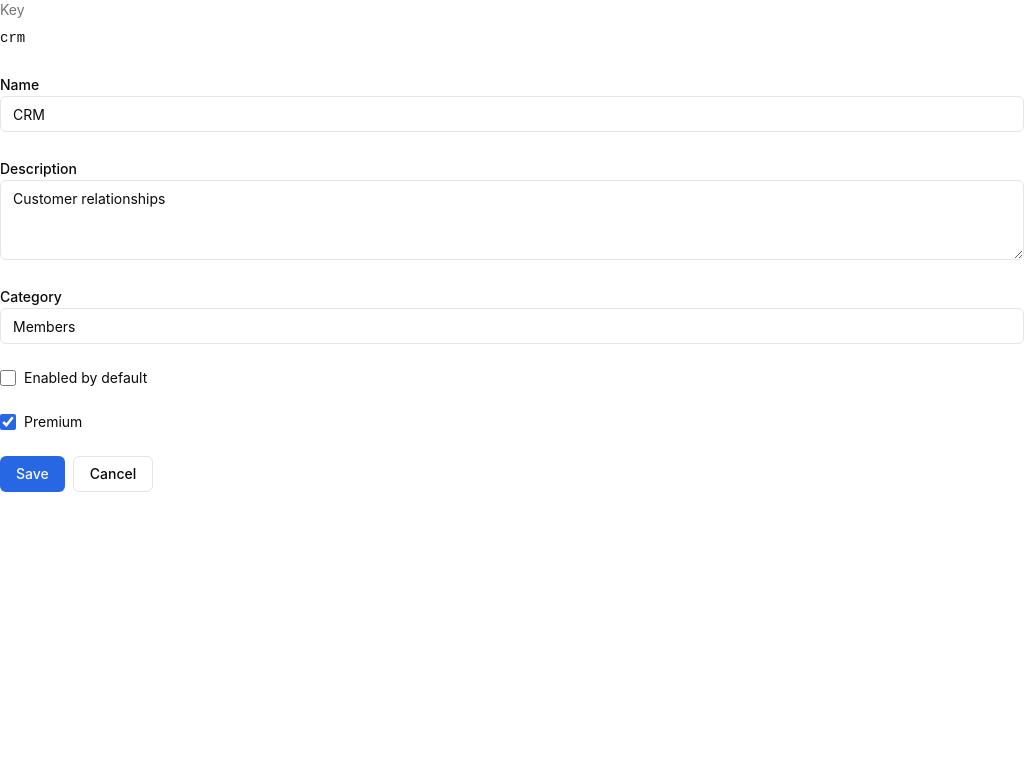
Test case: editing a catalogue entry › reads the override count correctly when adoption is null and override is not
Click the checkbox labelled "Enabled by default": {"x": 8, "y": 378} [0,370,16,386]
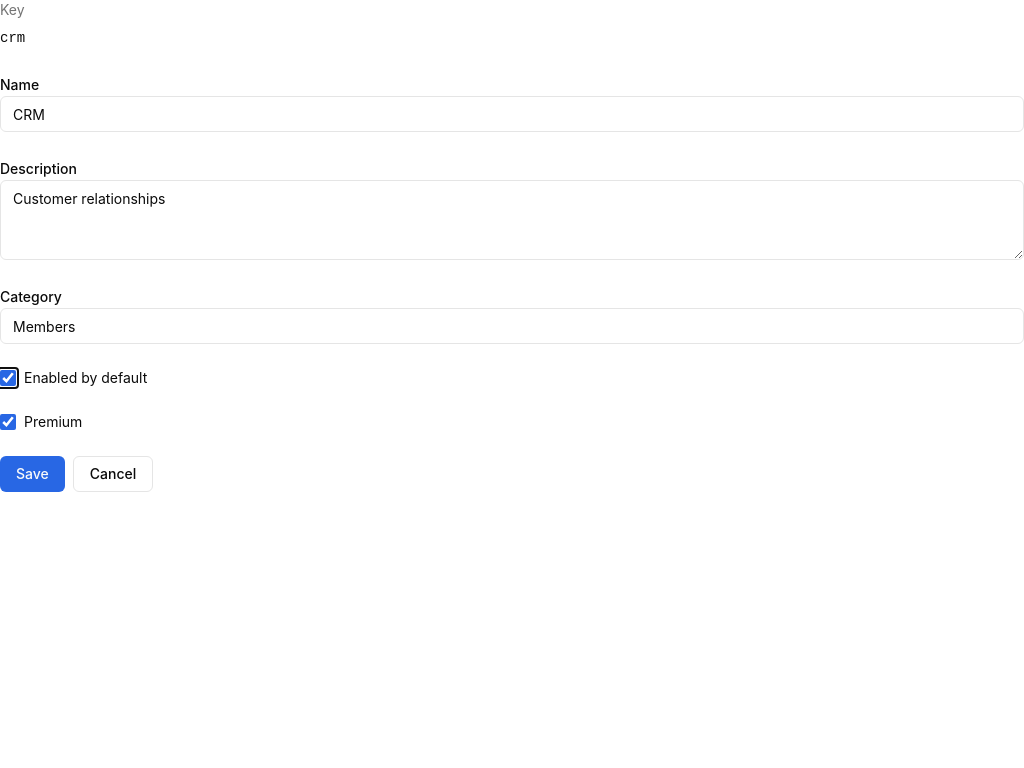
Click the button "Save": {"x": 32, "y": 474} [0,456,65,492]
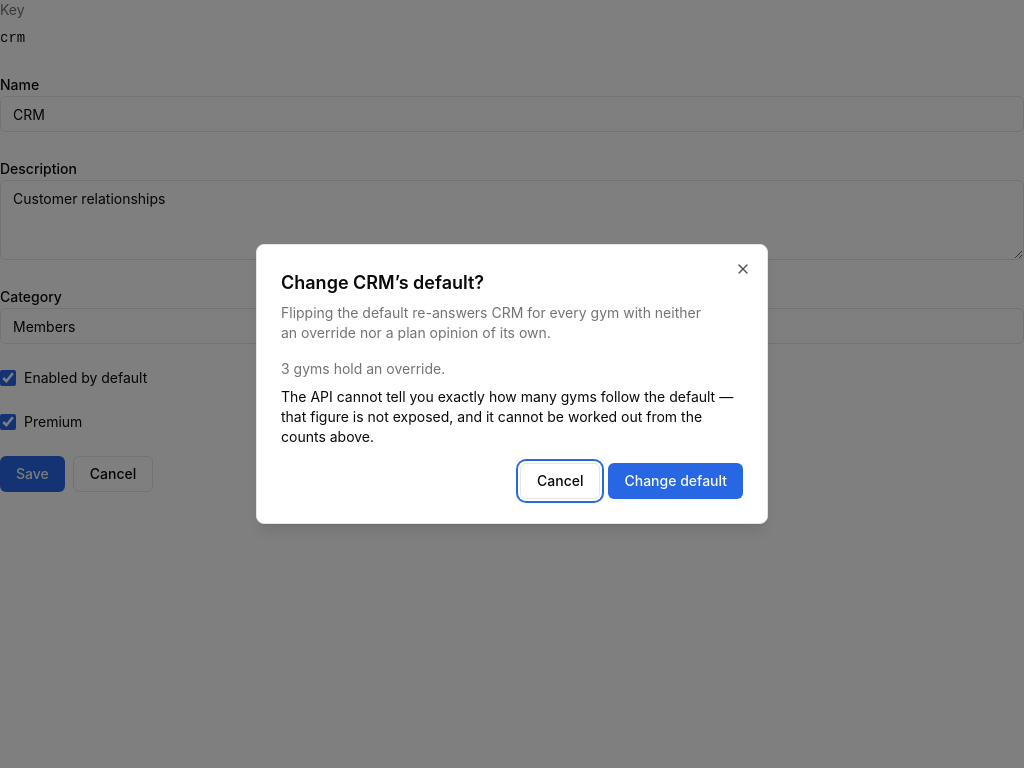
Expected: the text "3 gyms hold an override." is shown, [281,360,445,377]
